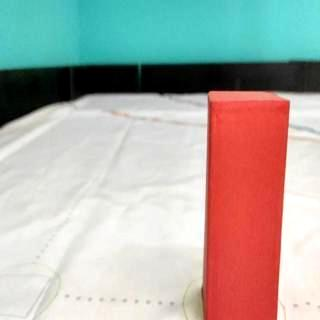redbox: (202, 89, 290, 320)
